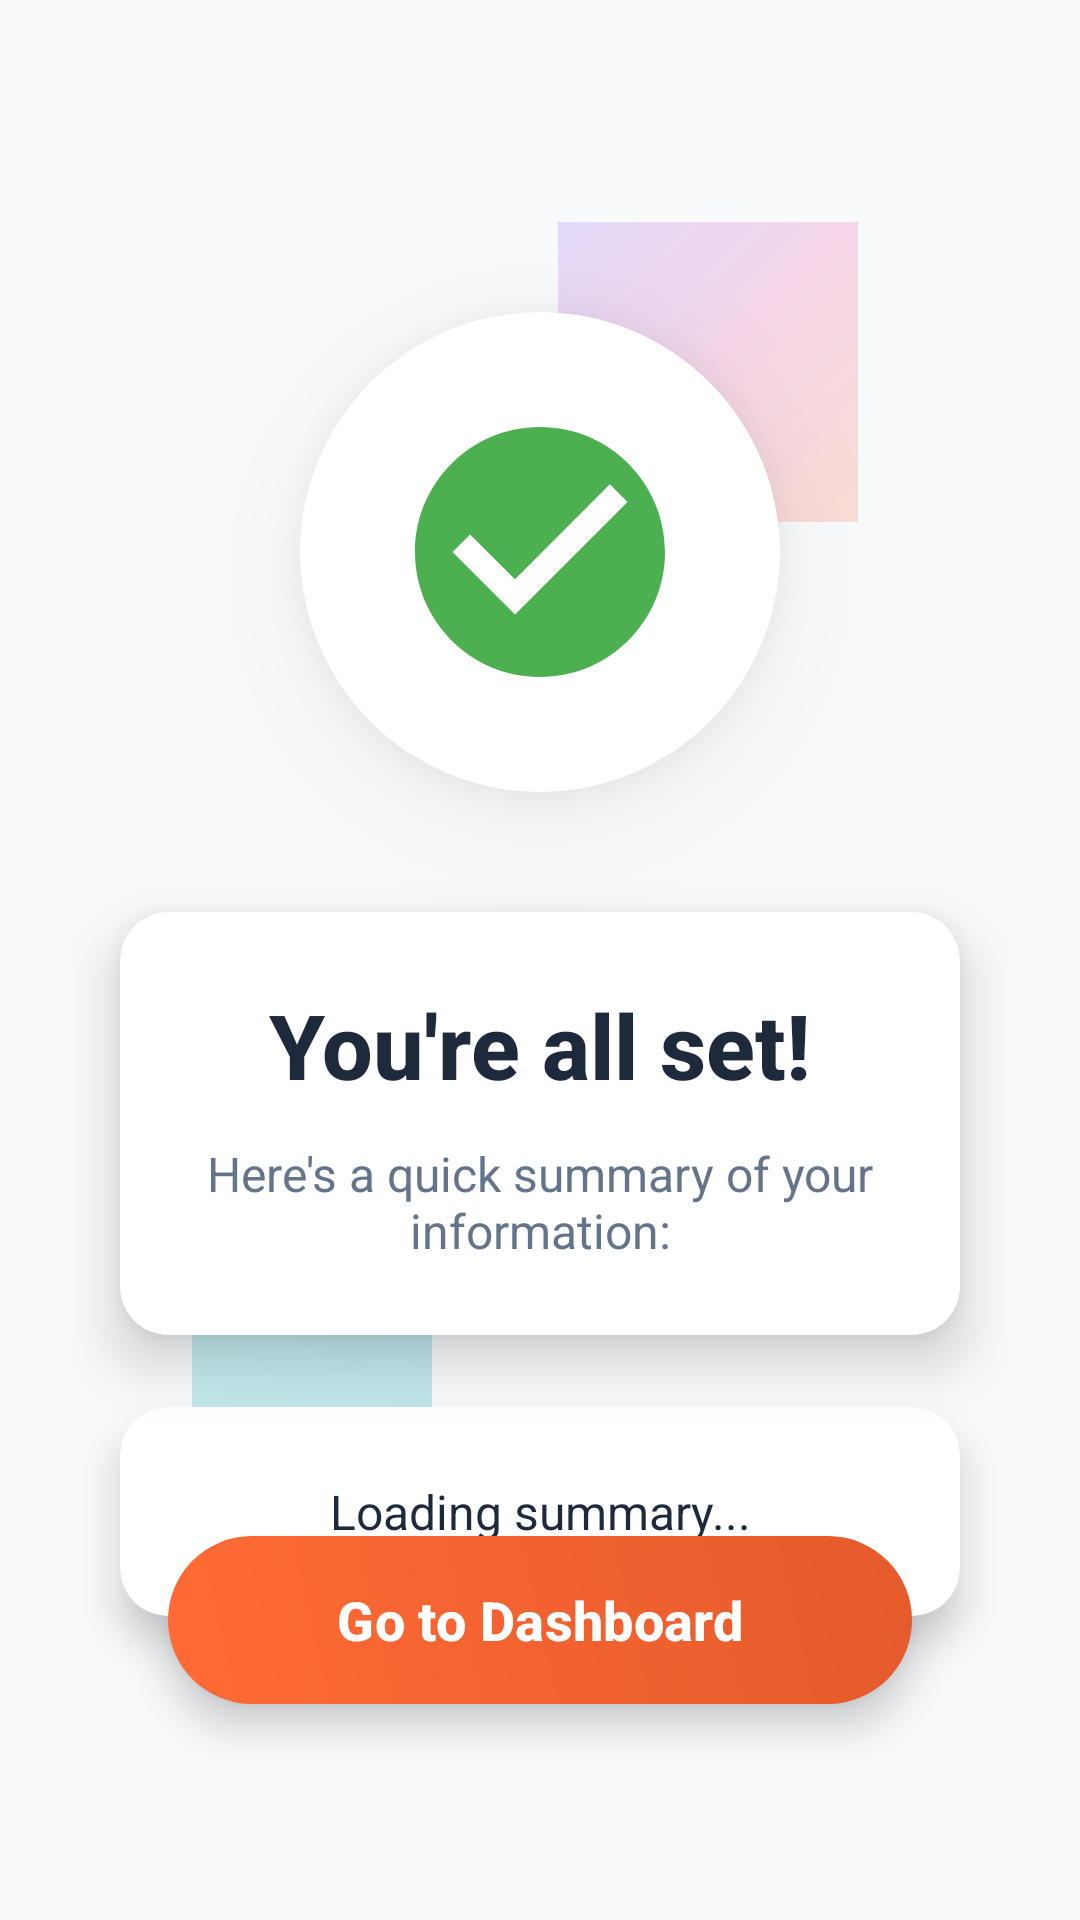

Point at icon controls on the screen. Image size 1080×1920, points as (x=x, y=y).
Success Icon: (x=540, y=552)
